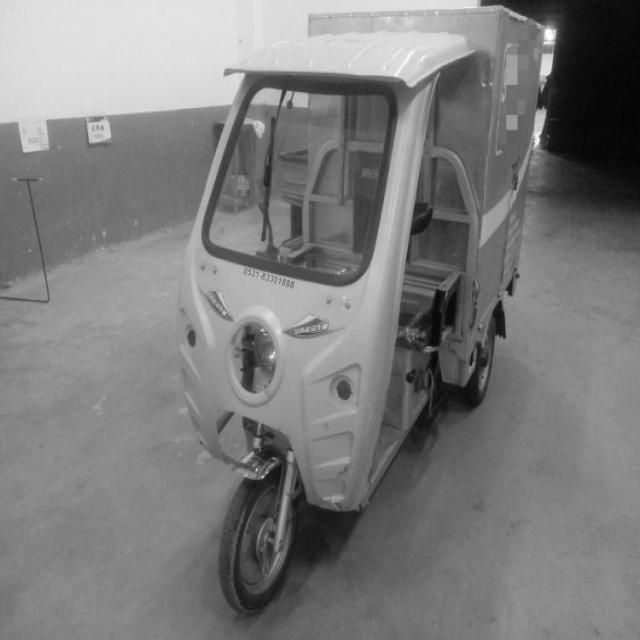tricycle: (172, 1, 544, 622)
